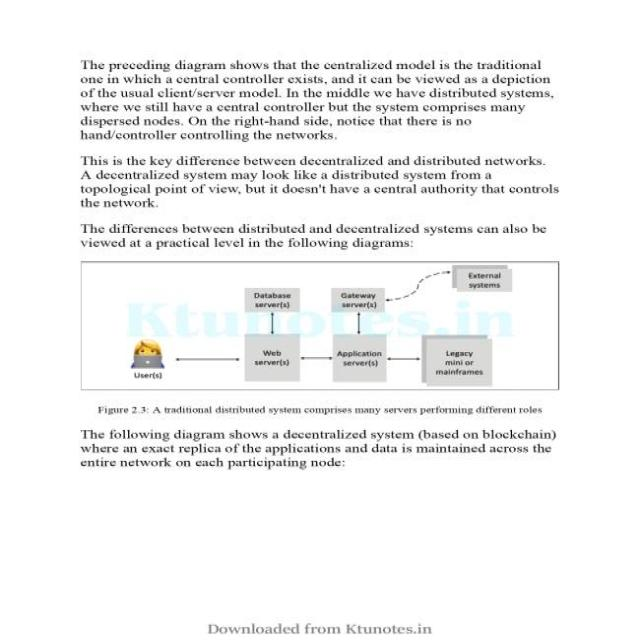Figure Detection - v3 Dataset Version2: (72, 253, 570, 396)
